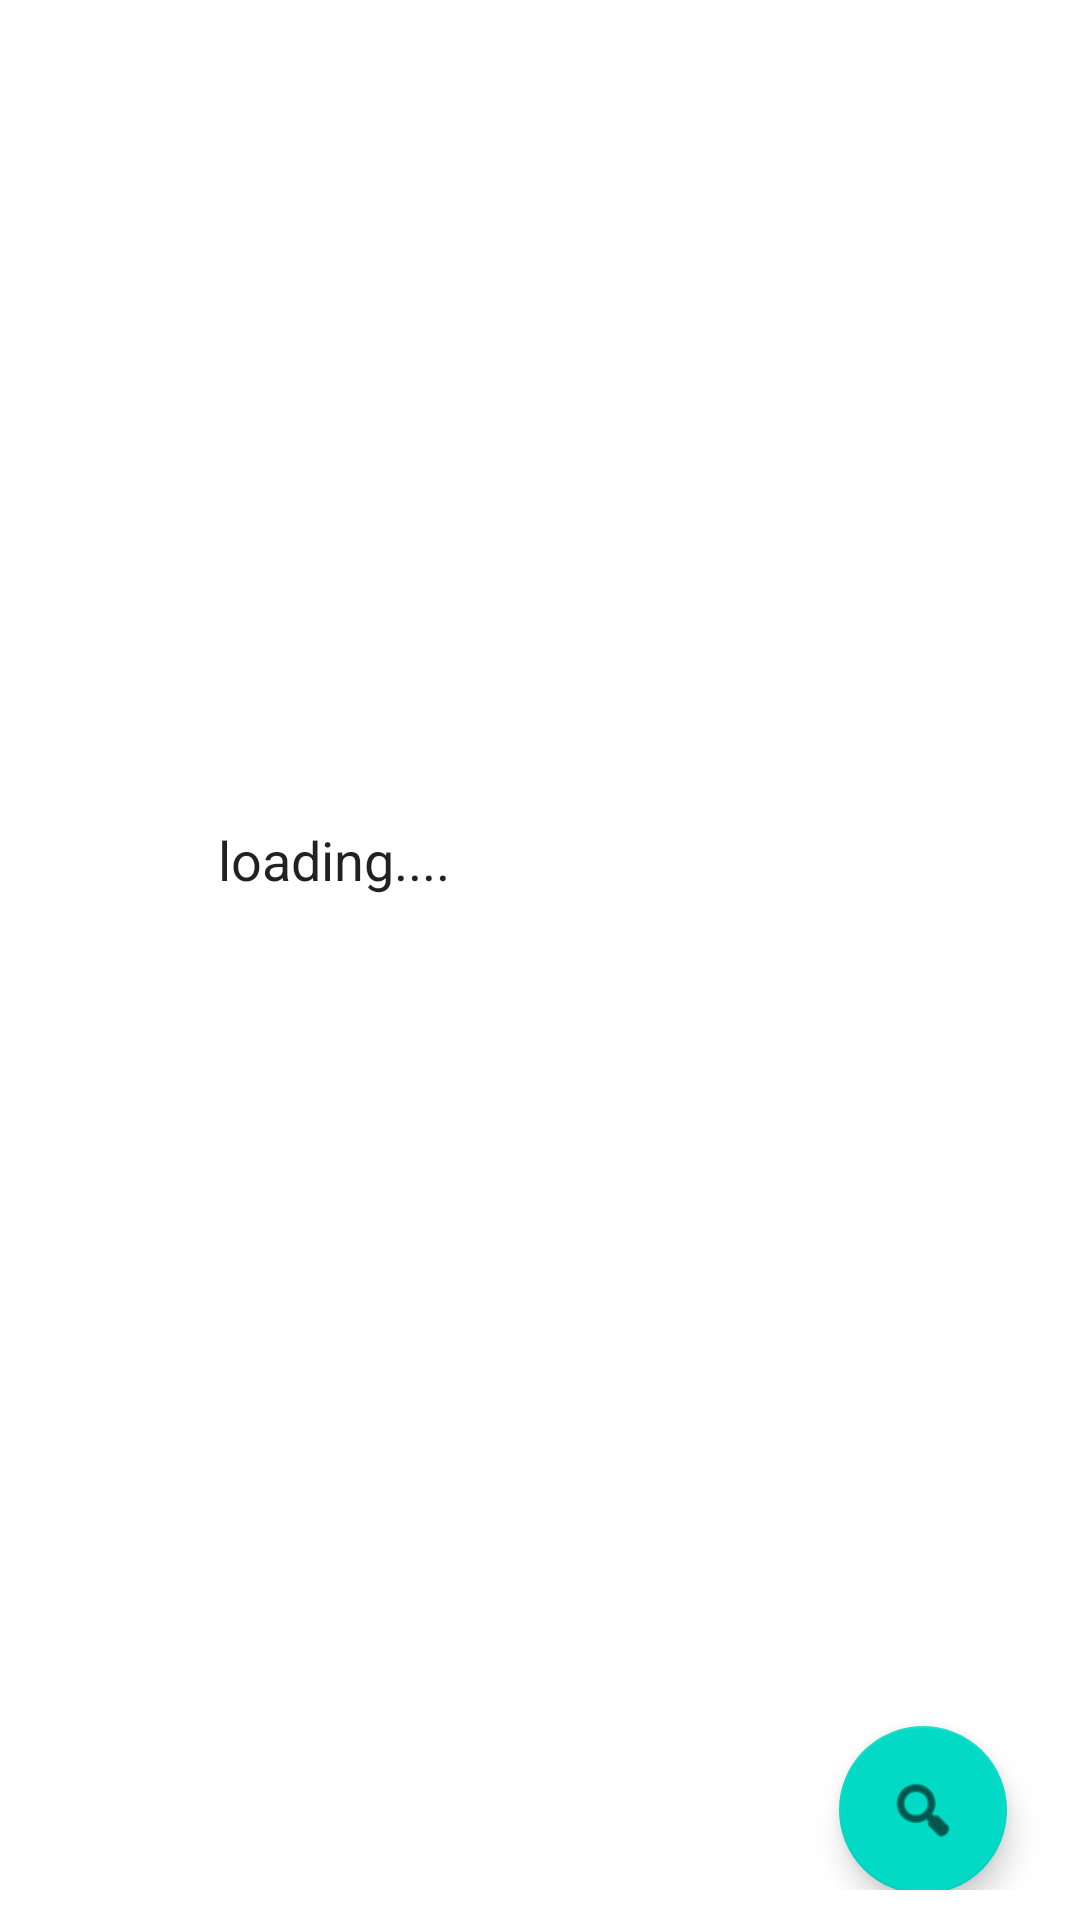

Screen size 1080×1920. Icon name, then its box in pixels as (left=x1, top=y1, right=x2, bottom=y2):
search: (left=839, top=1726, right=1007, bottom=1890)
